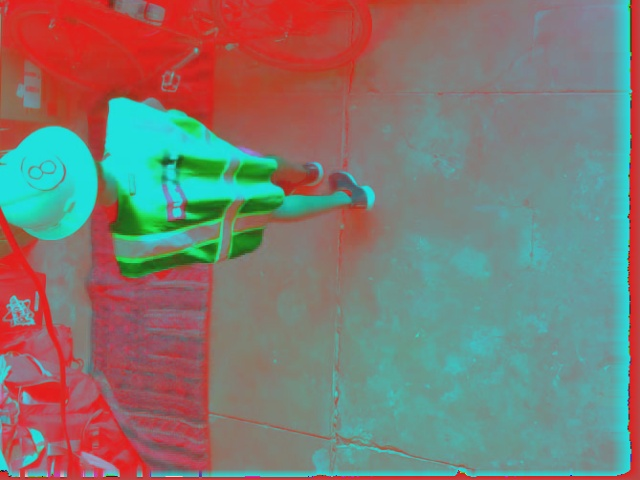eight: (20, 148, 65, 190)
